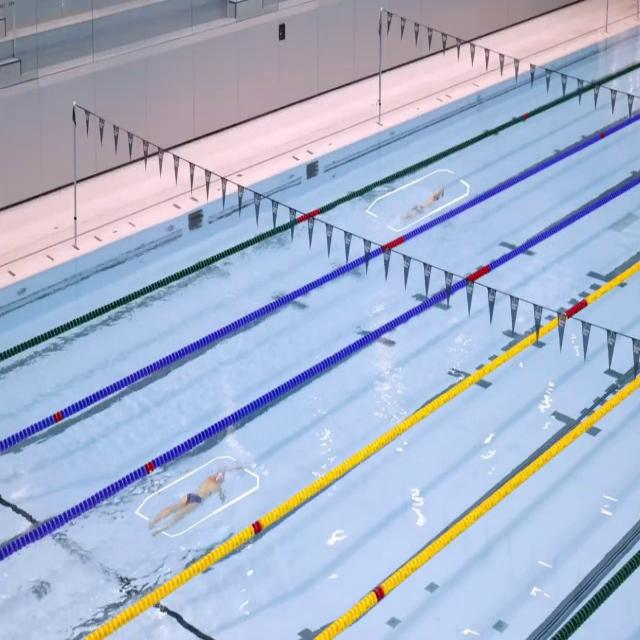Swimming: (149, 464, 243, 538), (404, 187, 446, 223)
